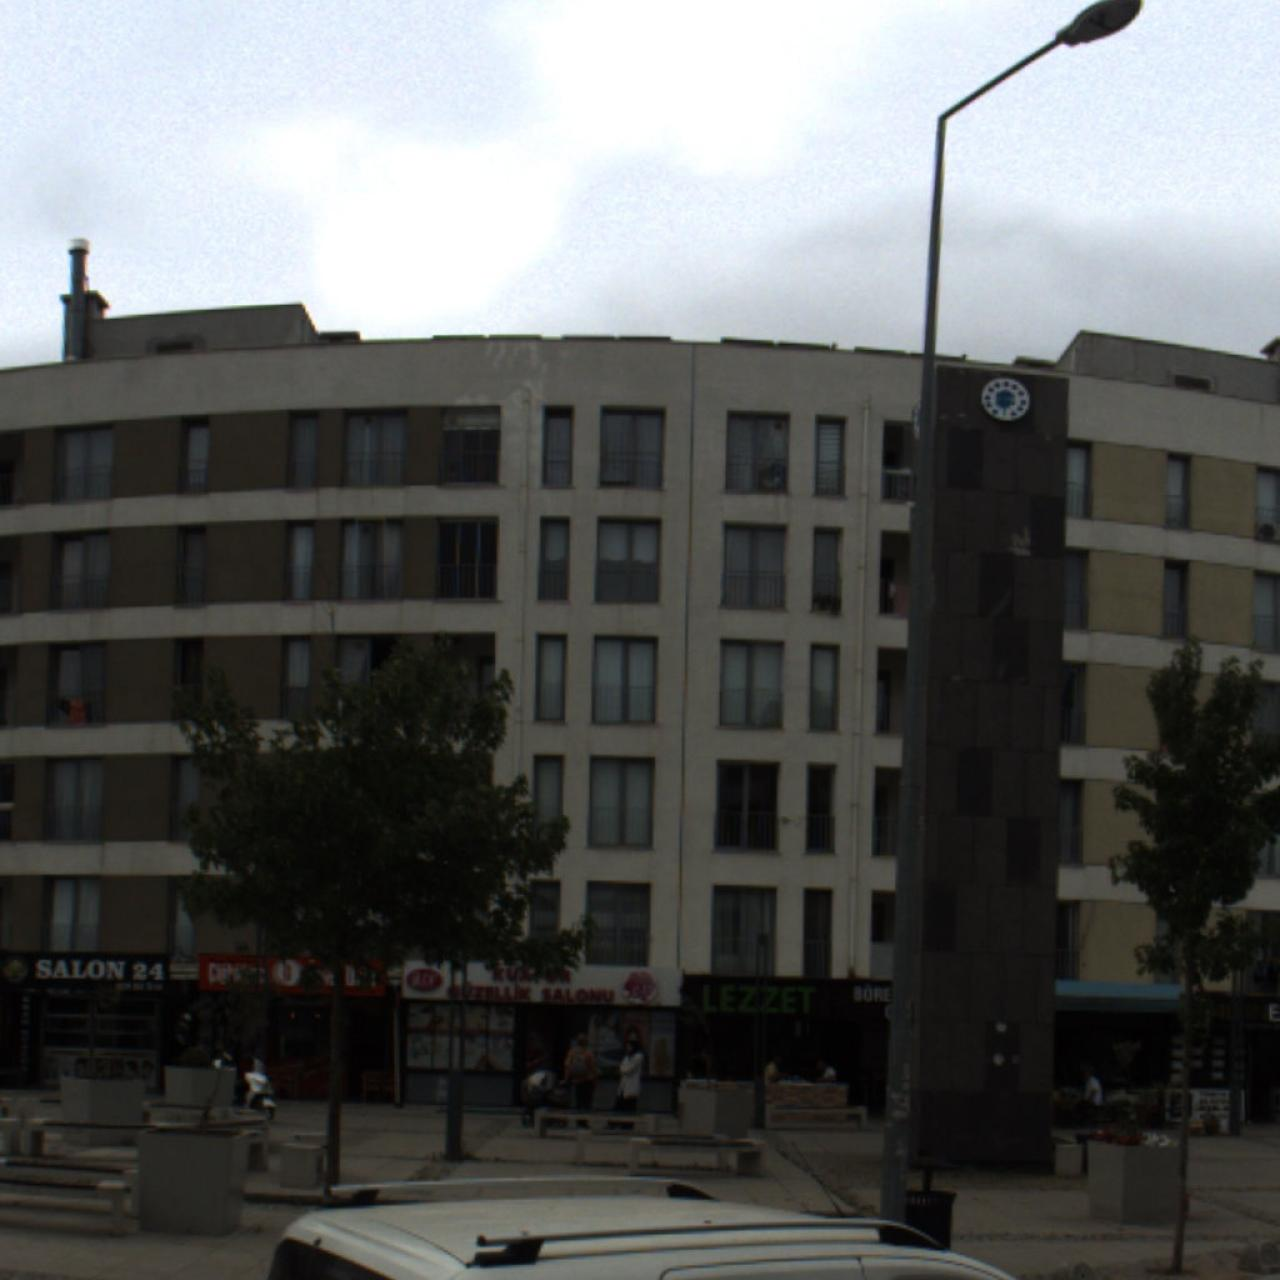SignStore: (402, 956, 682, 1008), (682, 975, 892, 1021), (199, 954, 387, 999), (7, 949, 169, 994)
